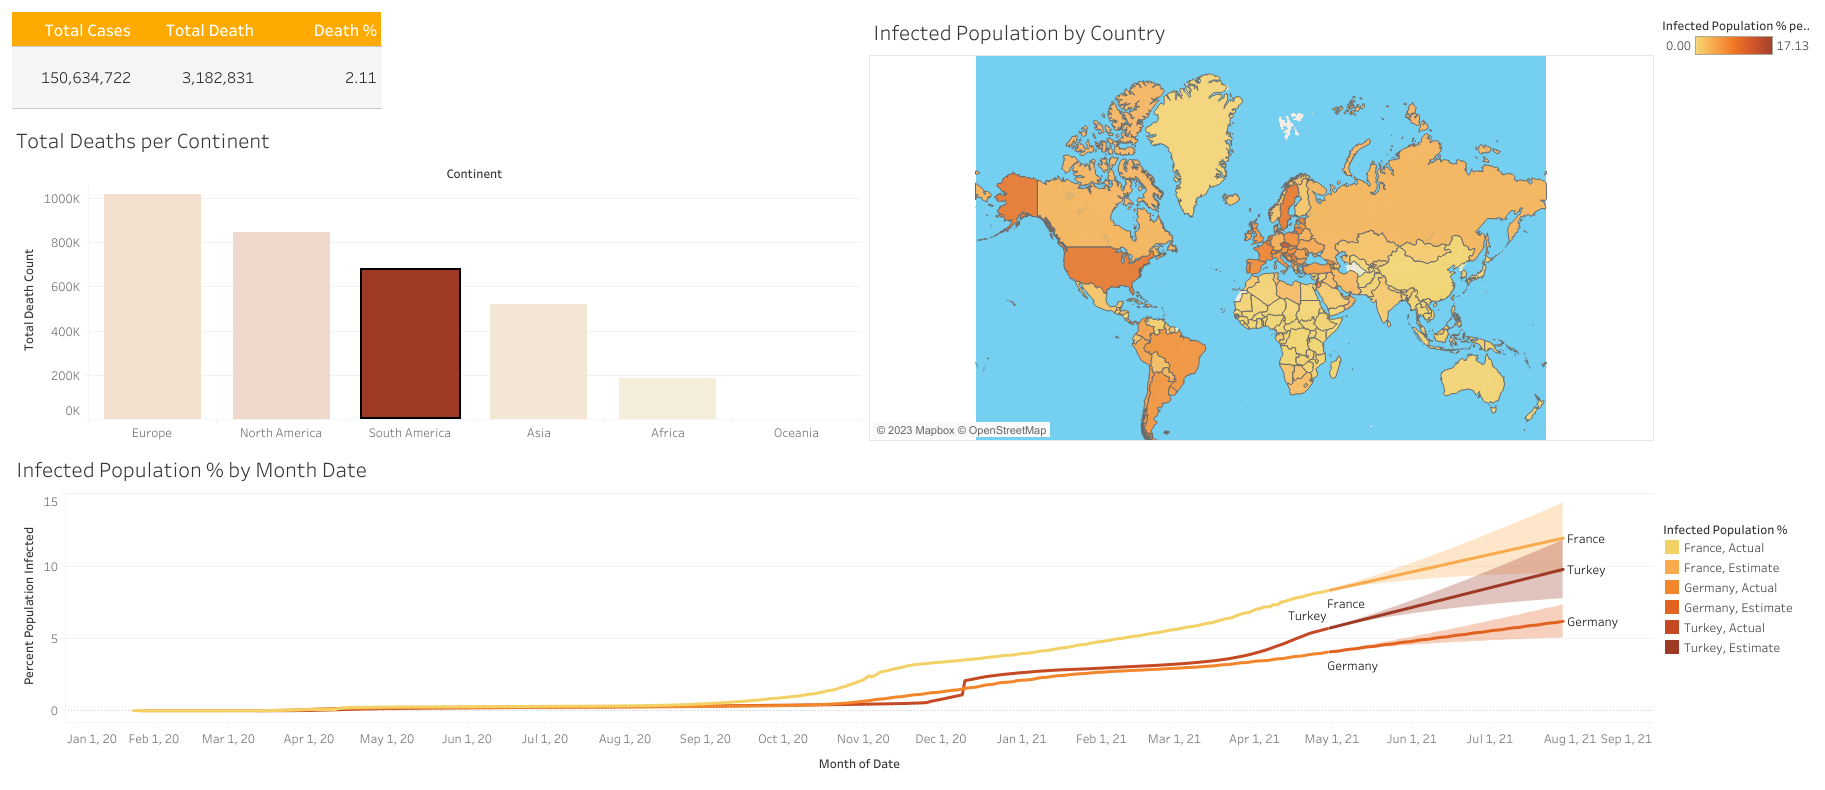

The dashboard page shown, as its layout file describes it:
{"tool":"tableau","page":{"name":"Dashboard 1","canvas":[1000,1000],"units":"permille","ordinal":0},"visuals":[{"type":"worksheet","title":"Sheet 1","mark":"Automatic","box":[4.8,10,464.8,136.8]},{"type":"worksheet","title":"Sheet 3","mark":"Automatic","box":[469.6,10,430.3,552.1]},{"type":"legend","title":"Sheet 3","param":"[federated.0rz2chj0ld6j6v1dfm7n90xbs3u4].[sum:Infection_percentage:qk]","box":[899.9,10,95.4,370.1]},{"type":"worksheet","title":"Sheet 2","mark":"Automatic","rows":["TotalDeathCount"],"cols":["location"],"box":[4.8,146.8,464.8,415.3]},{"type":"worksheet","title":"Sheet 4","mark":"Automatic","rows":["PercentPopulationInfected"],"cols":["date"],"box":[4.8,562.1,895.1,427.9]},{"type":"legend","title":"Sheet 4","param":"[federated.10anpdy14lvist167ldkm0mh9ulv].[none:Location:nk]\n[federated.10anpdy14","box":[899.9,649.9,95.4,340]}]}

Visuals, with their boxes on the dashboard's canvas, which has no fixed pixel size, in thousandths of its width and height (x1, y1, x2, y2). These are canvas units, not pixel positions in the 1825x790 screenshot, which may show the page scaled, cropped or inside an application window:
"Sheet 1" worksheet: (5,10,470,147)
"Sheet 3" worksheet: (470,10,900,562)
"Sheet 3" legend: (900,10,995,380)
"Sheet 2" worksheet: (5,147,470,562)
"Sheet 4" worksheet: (5,562,900,990)
"Sheet 4" legend: (900,650,995,990)
